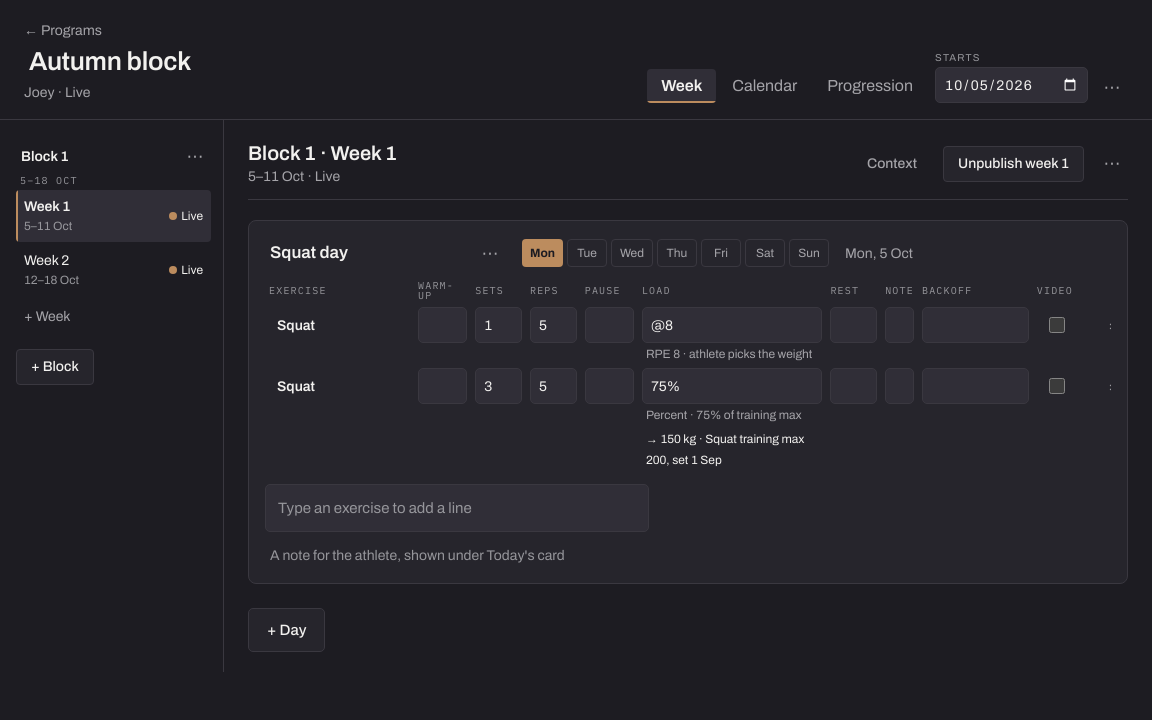
Scenario: one publish at a time › drops Publish all from the ⋯ when nothing is left in draft
This screenshot has width=1152, height=720.
Click the button named "Program actions" at (1112, 87), box [1096,71,1128,103]
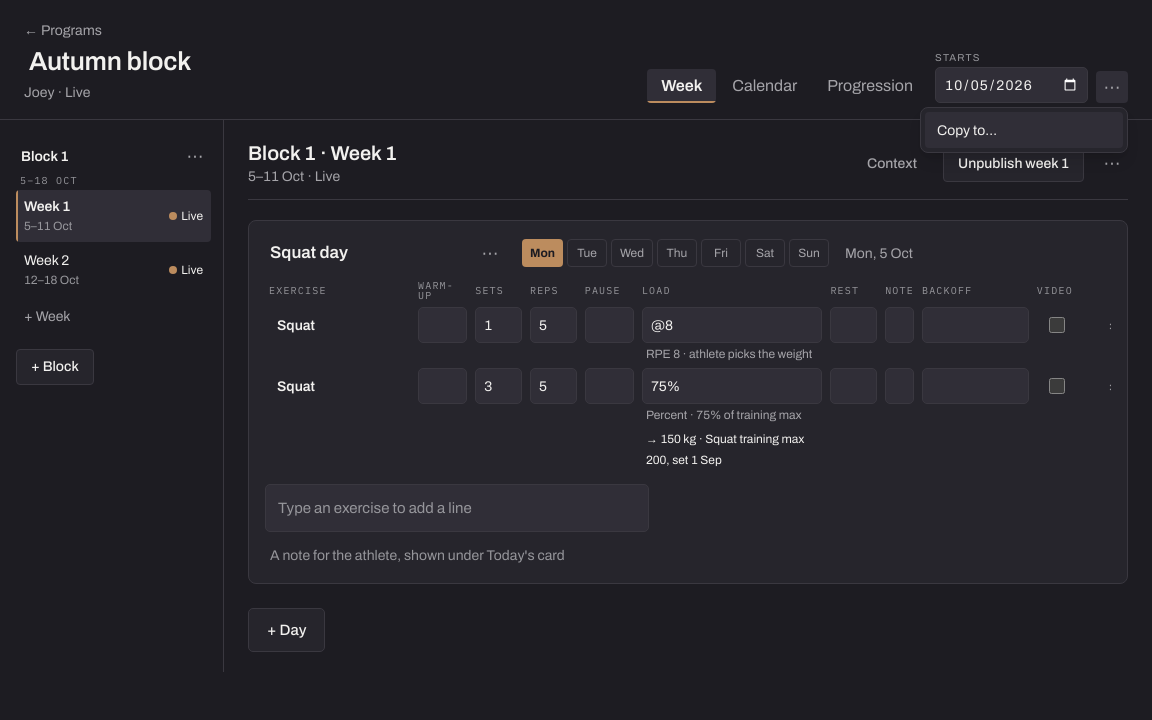
expect the menu items read "Copy to…", in this order: met, box [925,112,1123,148]
